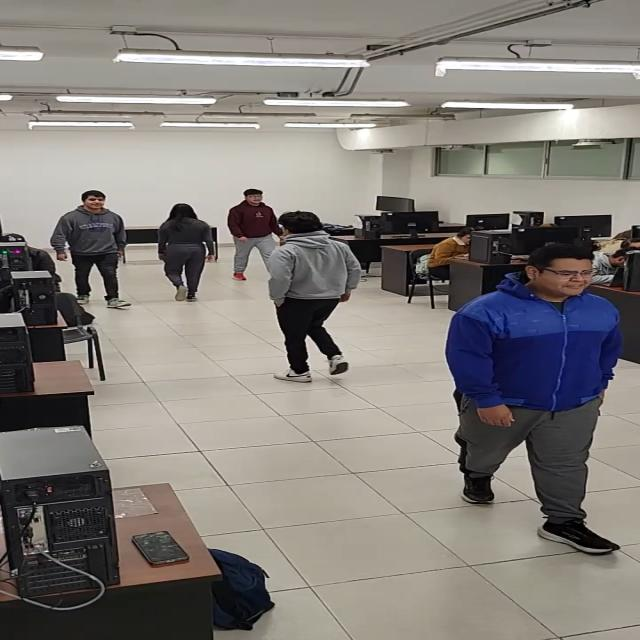Persona: (444, 241, 624, 559), (273, 215, 352, 383), (60, 194, 130, 310), (157, 203, 217, 304), (224, 191, 272, 280)
